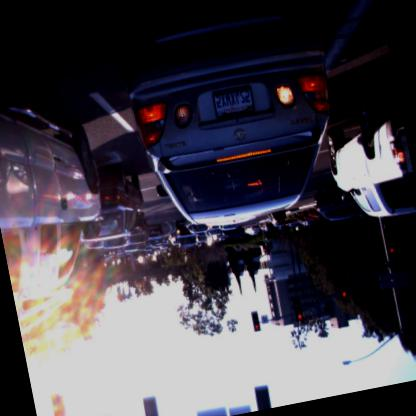trafficlight: (291, 296, 305, 324), (249, 309, 262, 334), (336, 277, 348, 299), (385, 233, 396, 256)
